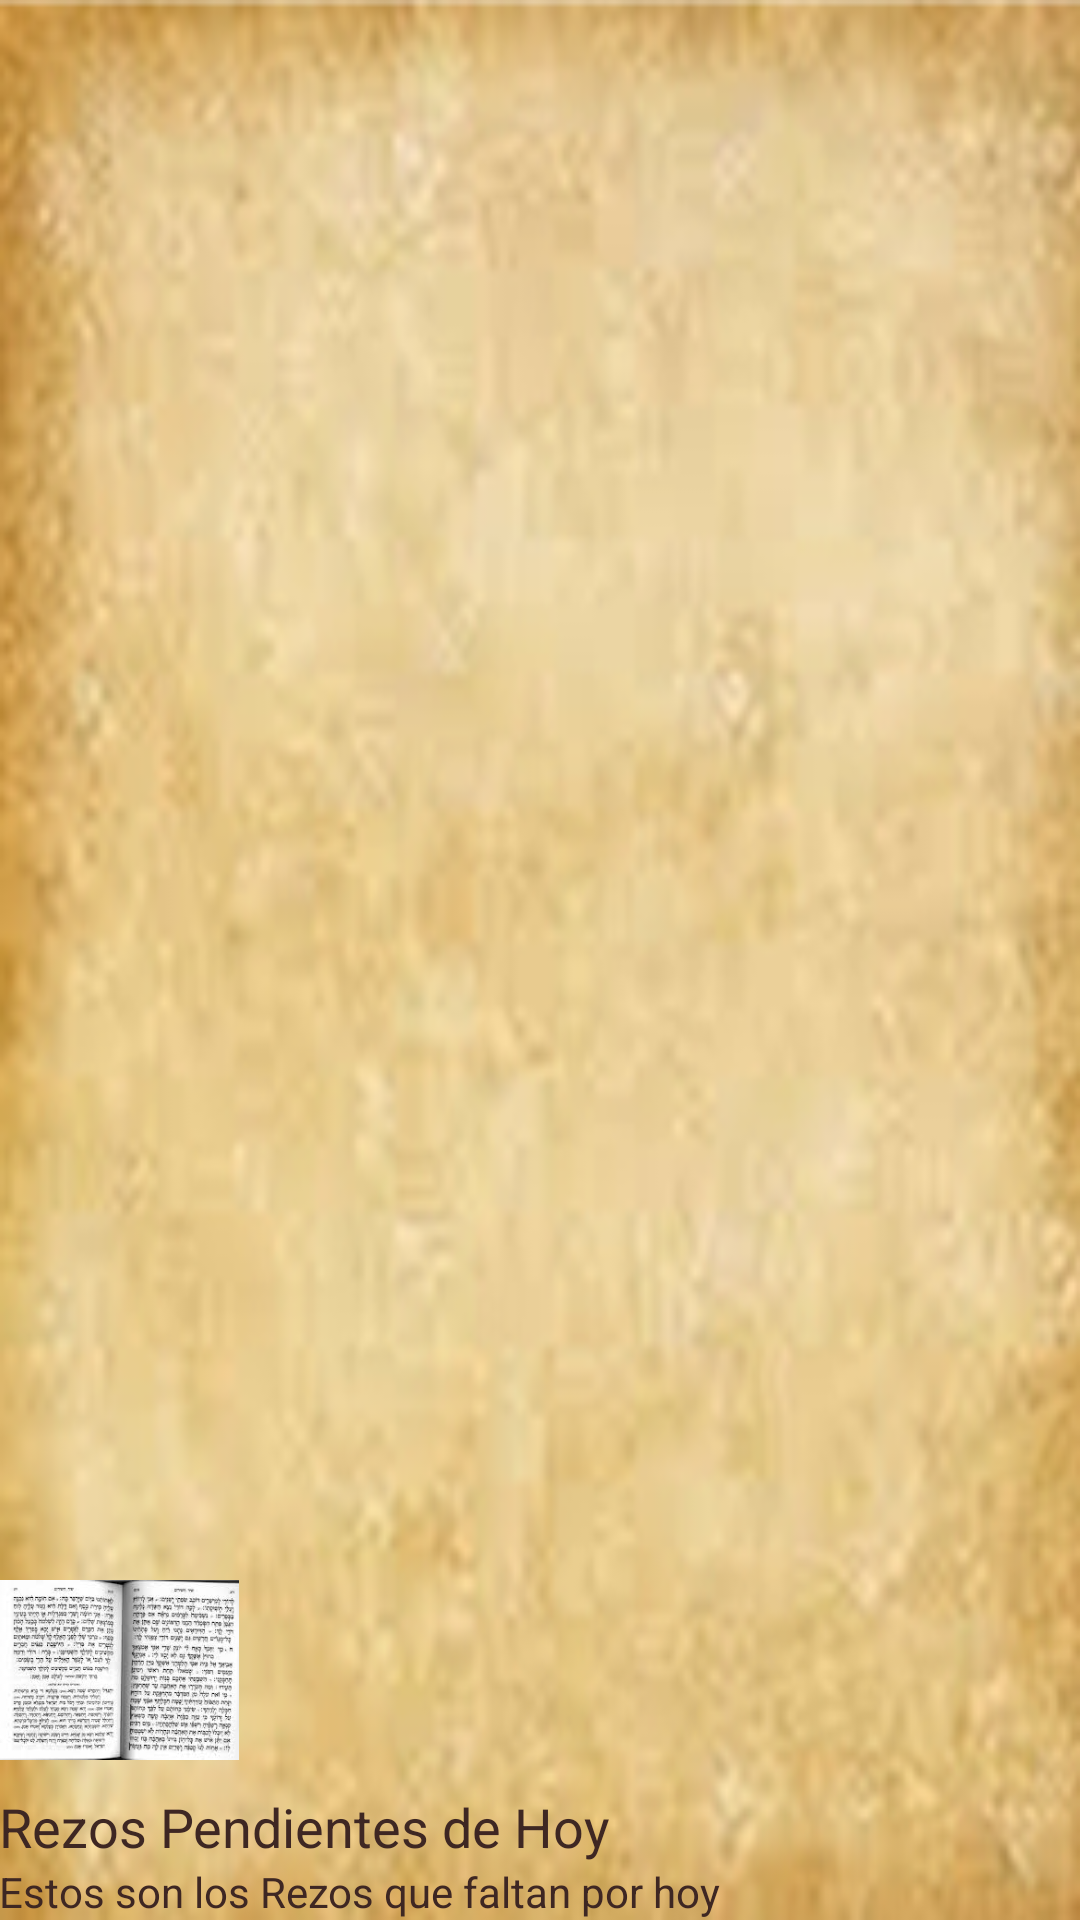

Icon bounding boxes for this 1080 x 1920 phone screenshot, format (x1, y1, x2, y2):
imagensidur: (0, 1550, 239, 1790)
